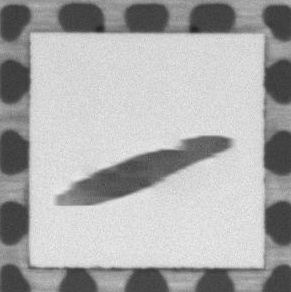DIE_INK: (56, 133, 235, 207)
